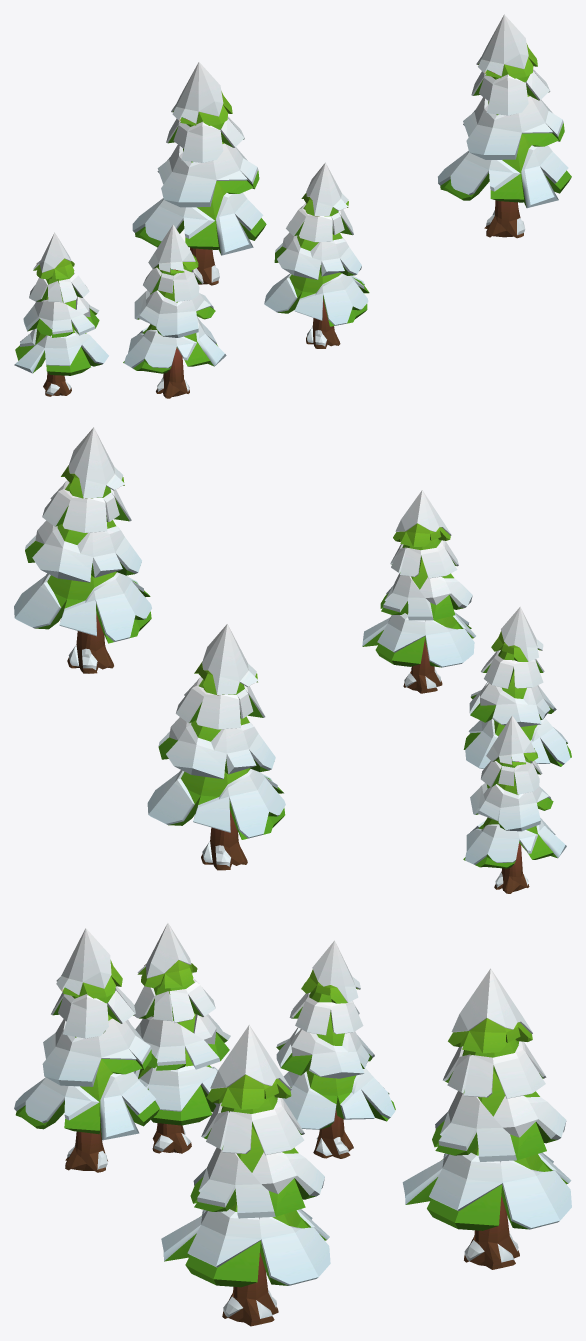
3 views of the same model, one above another, from view 1: azimuth 30°, elevation 25°; view 2: azimuth 150°, elevation 25°; view 3: azimuth 270°, elevation 25° (orthographic). The views are drawn at different scales.
Parts seen in each view (by area): view 1: SnowyTree (6), SnowyTree (9), SnowyTree (7), SnowyTree (10), SnowyTree (8); view 2: SnowyTree (9), SnowyTree (6), SnowyTree (7), SnowyTree (8), SnowyTree (10); view 3: SnowyTree (9), SnowyTree (6), SnowyTree (7), SnowyTree (8), SnowyTree (10).
Boxes of the visible parts, <box> form: SnowyTree (6): <box>438,14,571,238</box>; SnowyTree (9): <box>132,62,266,285</box>; SnowyTree (7): <box>264,162,369,348</box>; SnowyTree (10): <box>123,224,226,398</box>; SnowyTree (8): <box>14,232,108,396</box>; SnowyTree (9): <box>147,624,285,870</box>; SnowyTree (6): <box>14,427,151,673</box>; SnowyTree (7): <box>362,490,475,693</box>; SnowyTree (8): <box>463,715,566,893</box>; SnowyTree (10): <box>463,607,571,768</box>; SnowyTree (9): <box>402,968,571,1269</box>; SnowyTree (6): <box>161,1025,330,1326</box>; SnowyTree (7): <box>14,928,159,1172</box>; SnowyTree (8): <box>276,940,395,1158</box>; SnowyTree (10): <box>133,923,230,1153</box>.
Bounding box in the file's own units: 22.53 × 12.41 × 15.87.
Materials: 1 (1 with a texture image).
